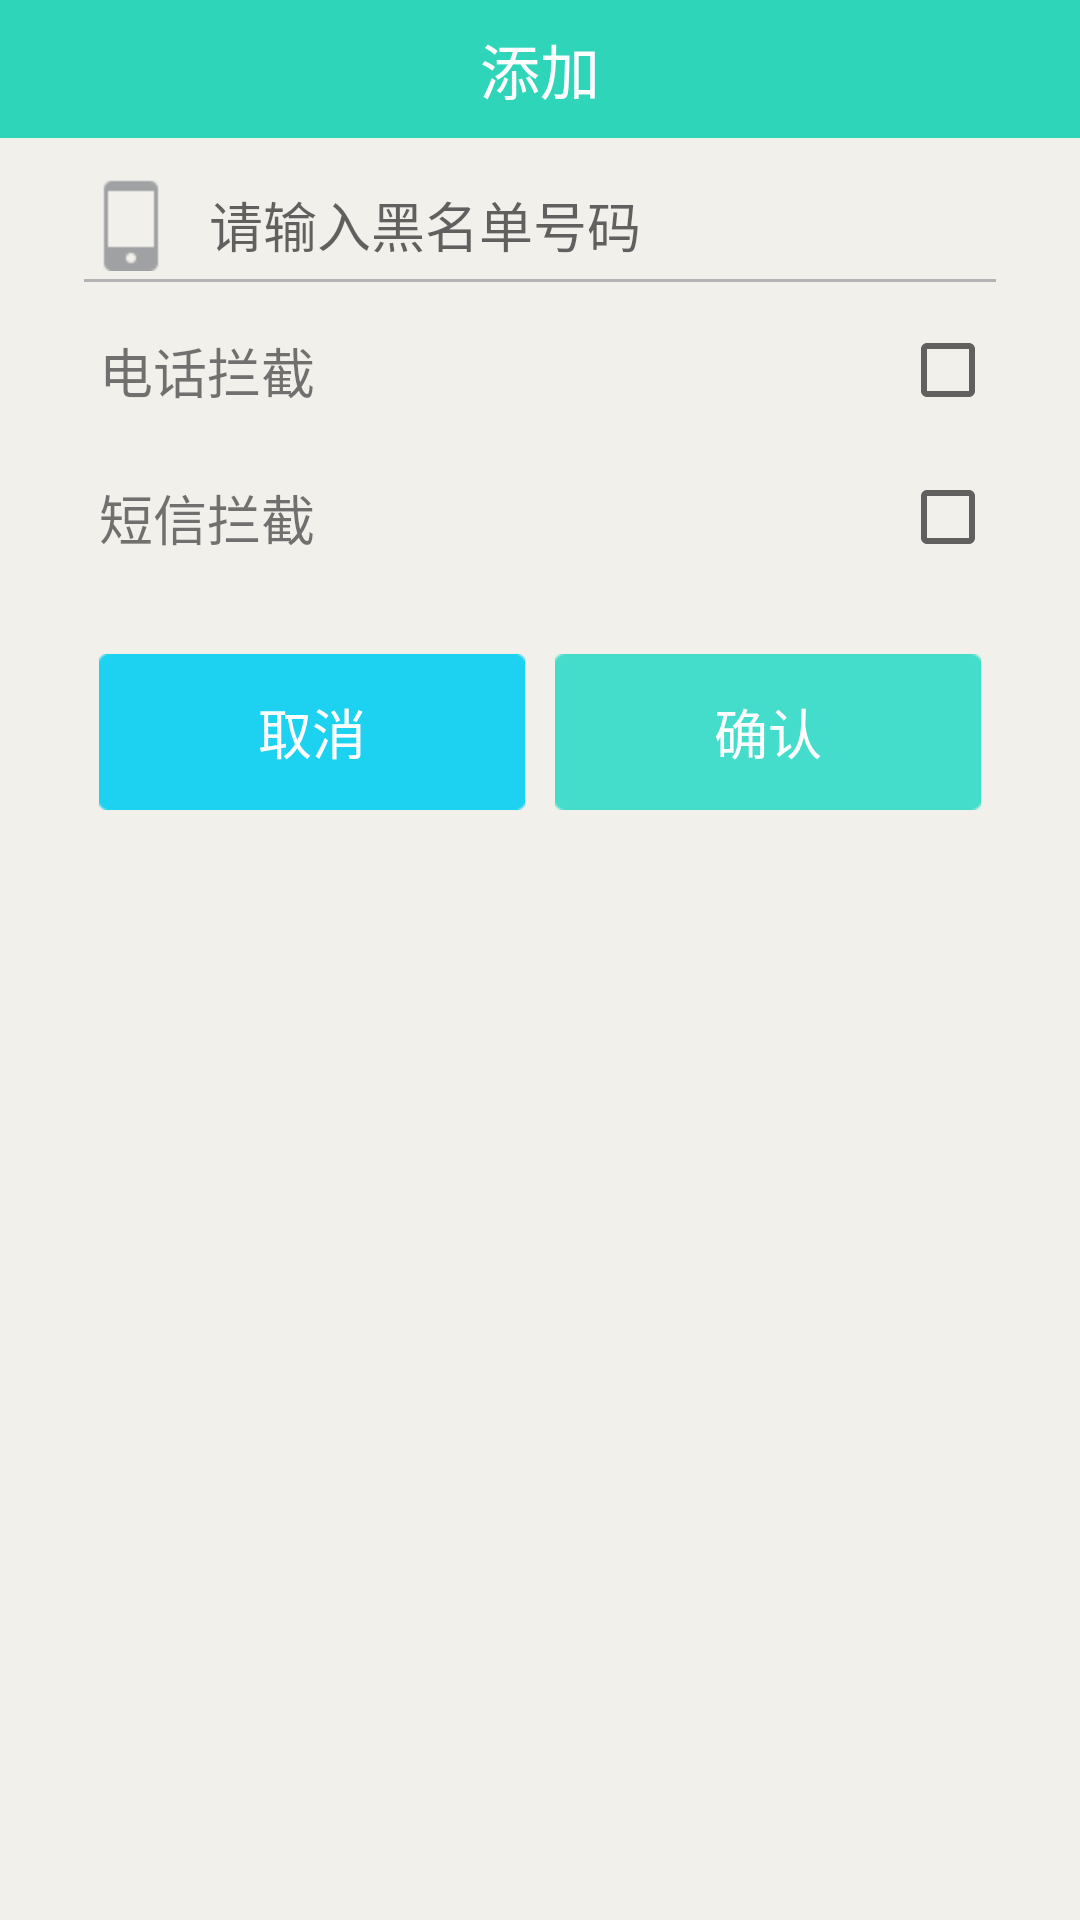

Screen size 1080px x 1920px. Icon name, then its box in pixels as (x1, y1, x2, y2):
login phone: (104, 181, 158, 271)
